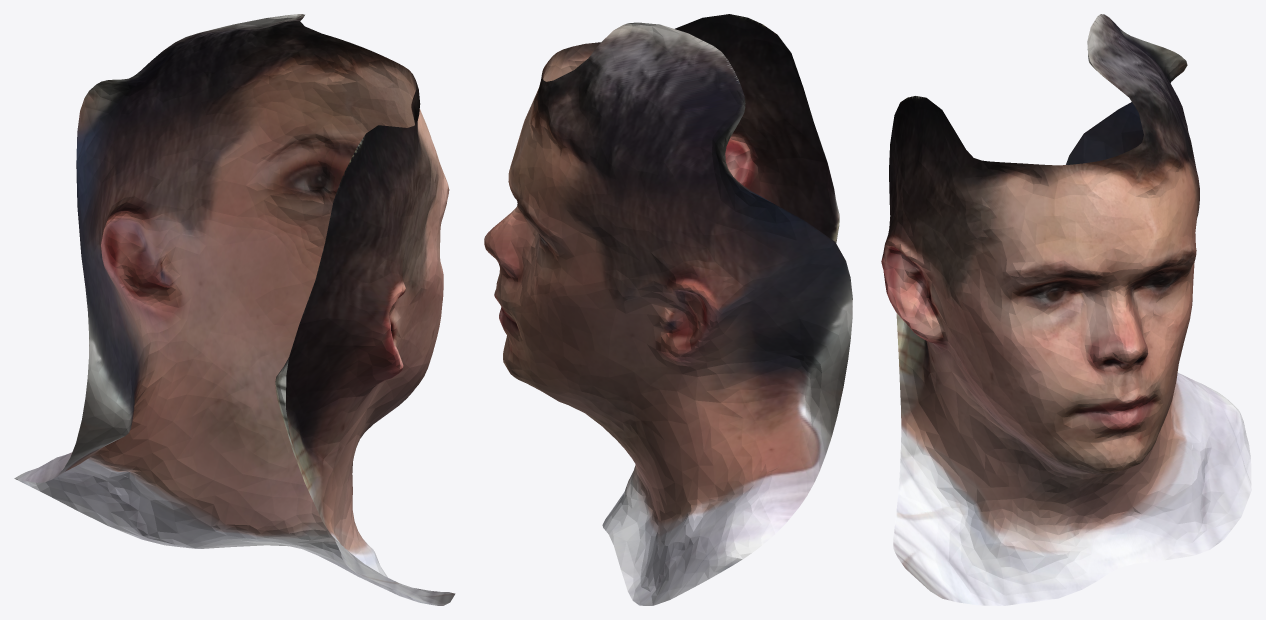
Rendered from faceScan_fullRes_OBJ.obj.
The picture shows the model from 3 angles, left to right: view 1: azimuth 30°, elevation 25°; view 2: azimuth 150°, elevation 25°; view 3: azimuth 270°, elevation 25°; orthographic projection. The views are drawn at different scales.
Visible parts, largest first — view 1: Mesh; view 2: Mesh; view 3: Mesh.
Boxes of the visible parts, x1,y1,x2,y2 form: Mesh: [14, 14, 455, 605]; Mesh: [484, 14, 852, 605]; Mesh: [881, 14, 1251, 605].
Size of the model in its own units: 29.93 by 44.93 by 28.71.
Materials: 1 (1 with a texture image).
